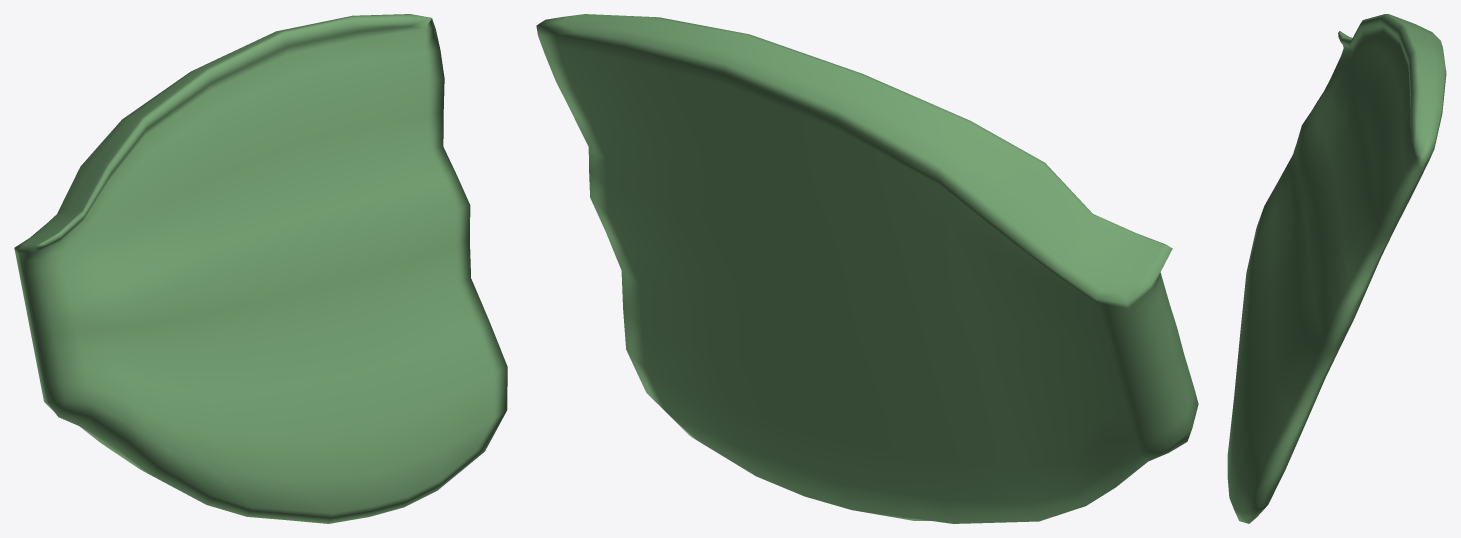
Rendered from fin_R_02.fbx.
3 views of the same model, side by side, from view 1: azimuth 30°, elevation 25°; view 2: azimuth 150°, elevation 25°; view 3: azimuth 270°, elevation 25° (orthographic). The views are drawn at different scales.
Visible parts, largest first — view 1: high_fin_R4; view 2: high_fin_R4; view 3: high_fin_R4.
Boxes of the visible parts, box(x1,y1,x2,y2) form: high_fin_R4: box(14, 14, 507, 523); high_fin_R4: box(536, 14, 1198, 523); high_fin_R4: box(1227, 14, 1446, 523).
Size of the model in its own units: 0.4555 by 0.4144 by 0.1863.
